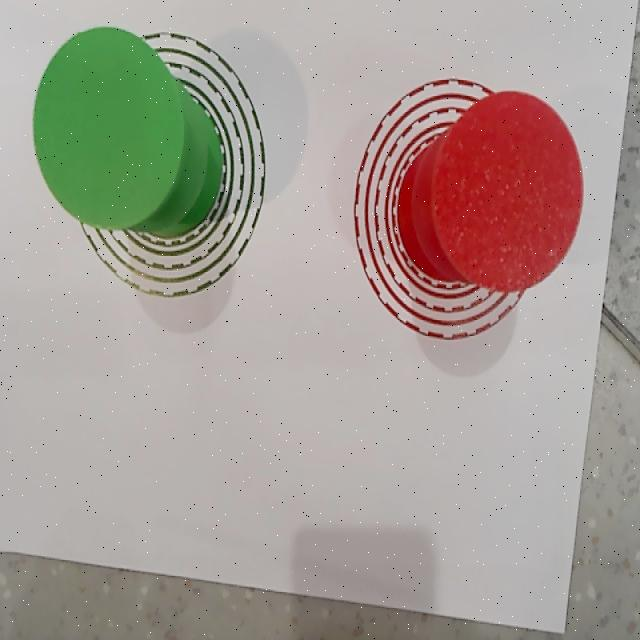g: (34, 26, 181, 229)
r: (434, 90, 584, 292)
